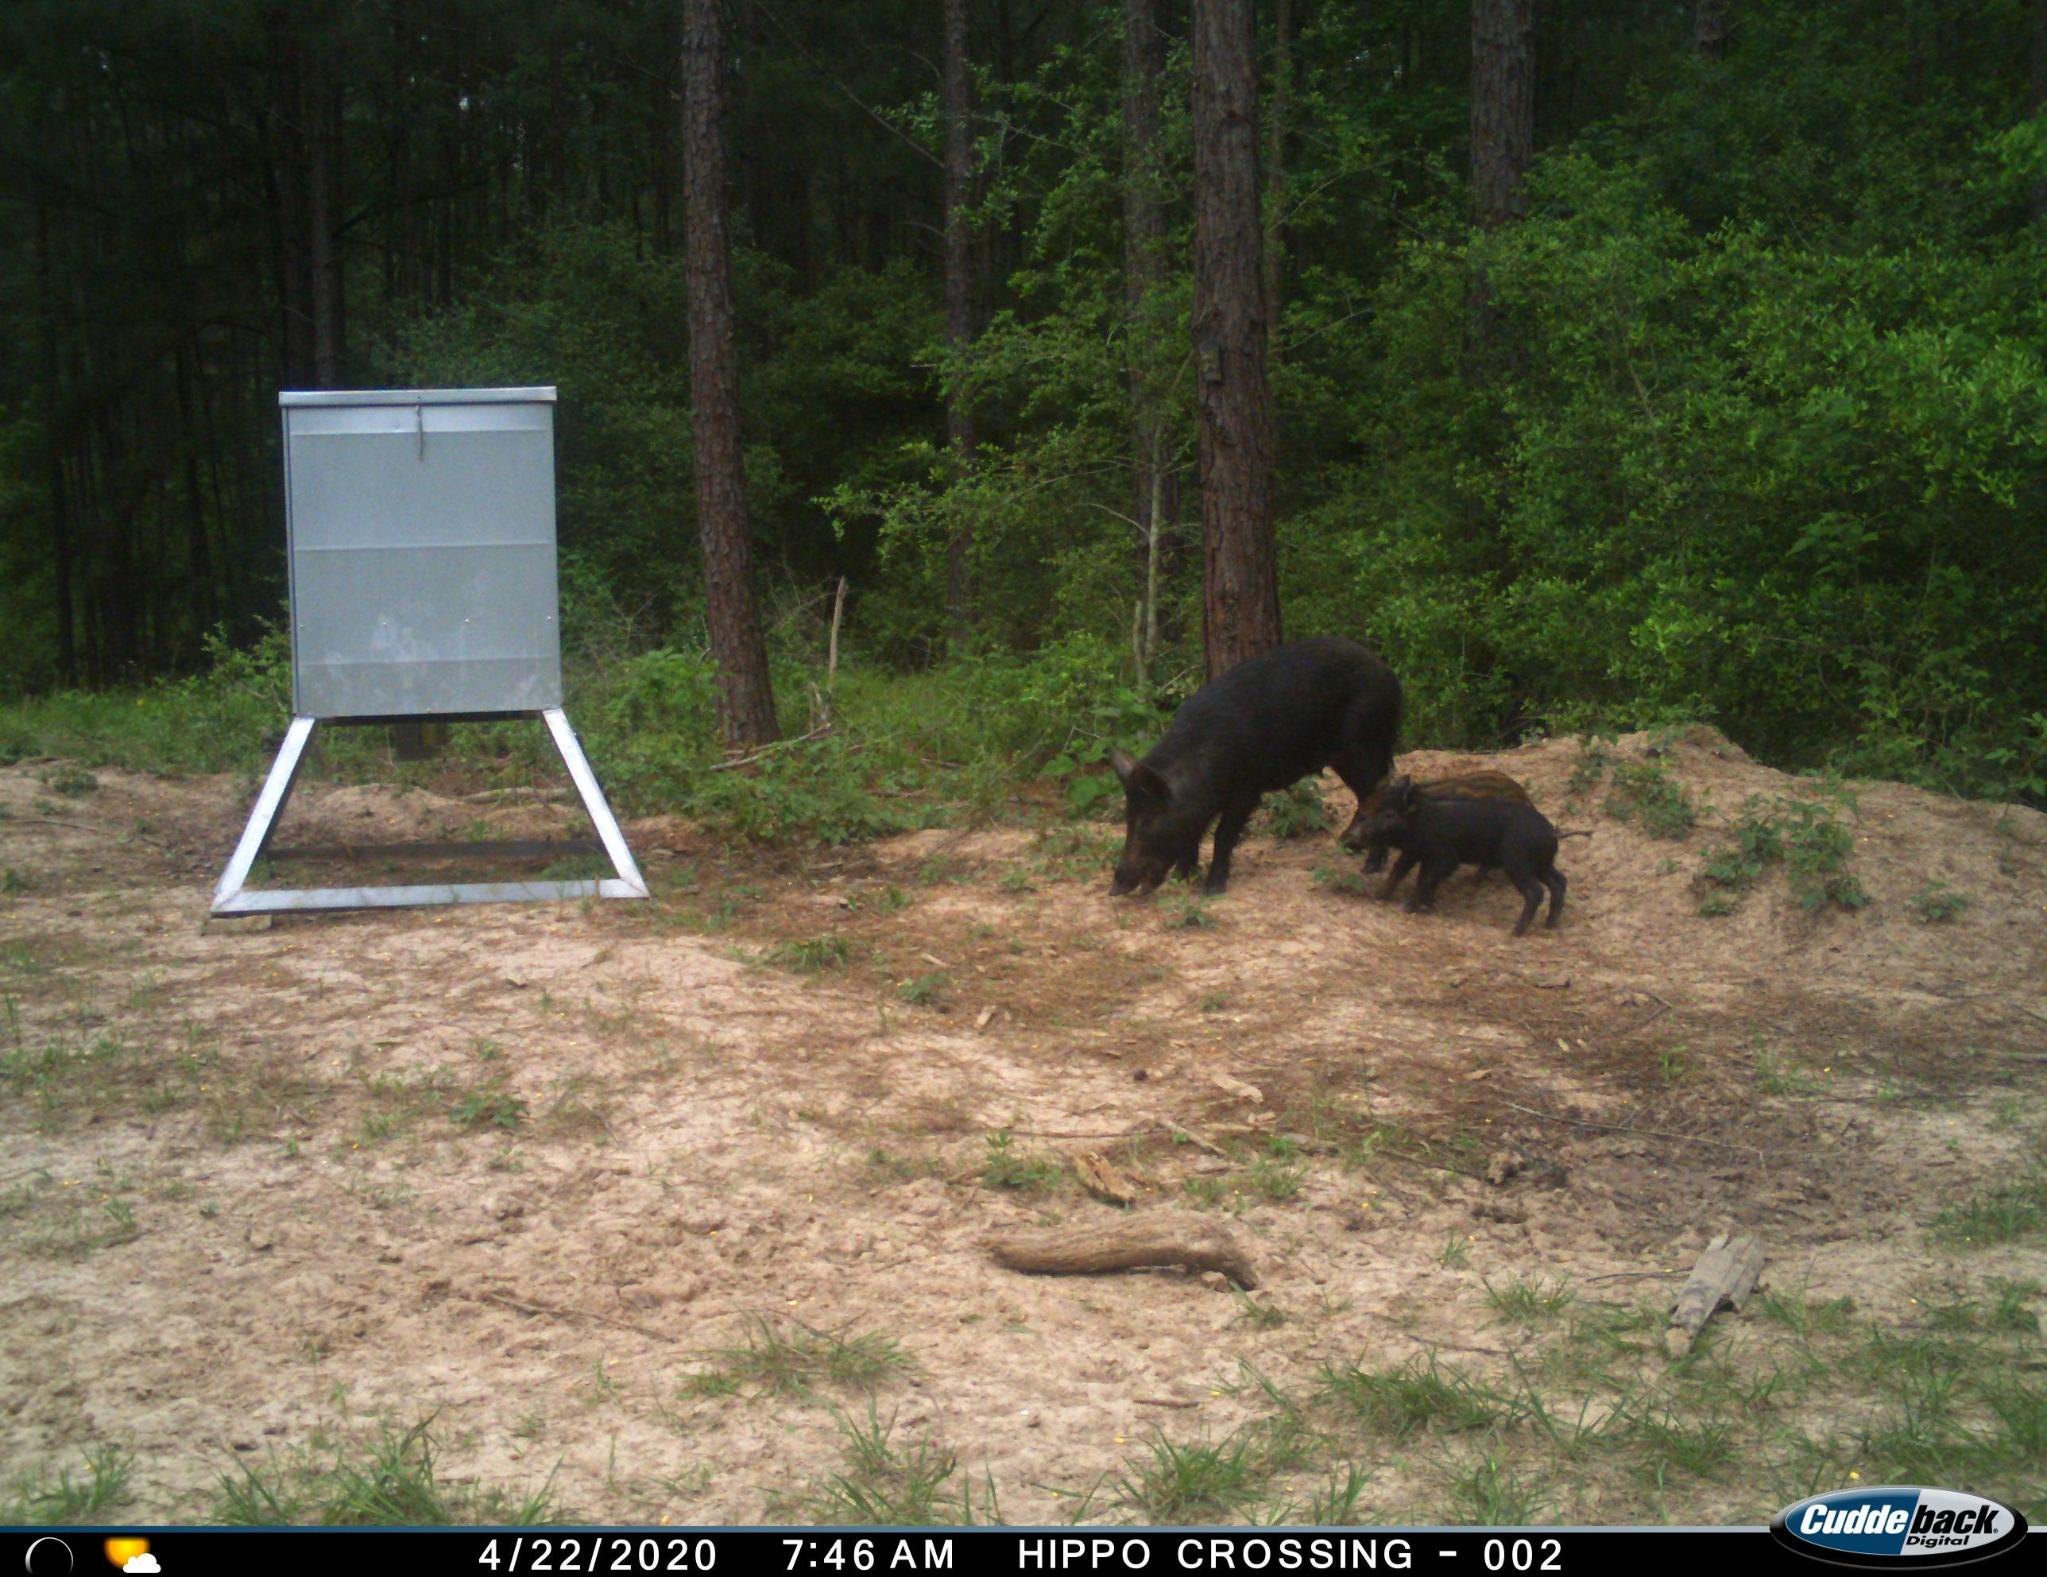Hog: (1078, 626, 1418, 901), (1355, 775, 1603, 951)
